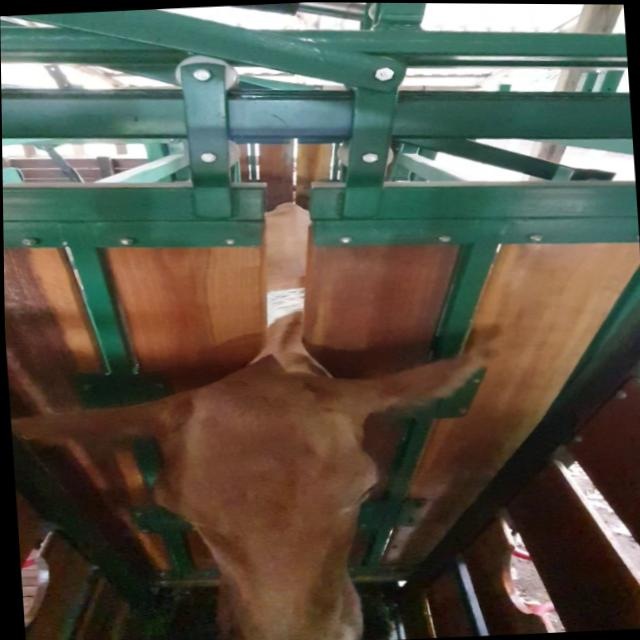cowFace: (141, 365, 383, 640)
